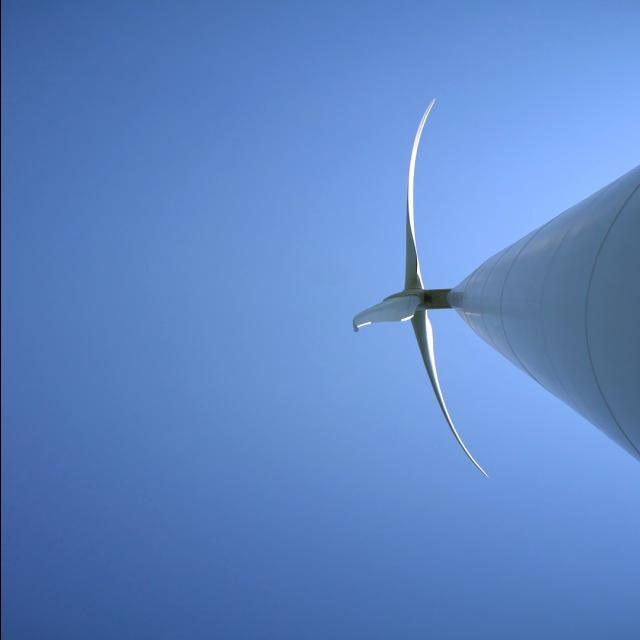blade 1: (421, 333, 469, 498)
blade 2: (358, 83, 448, 269)
blade 3: (329, 291, 398, 364)
